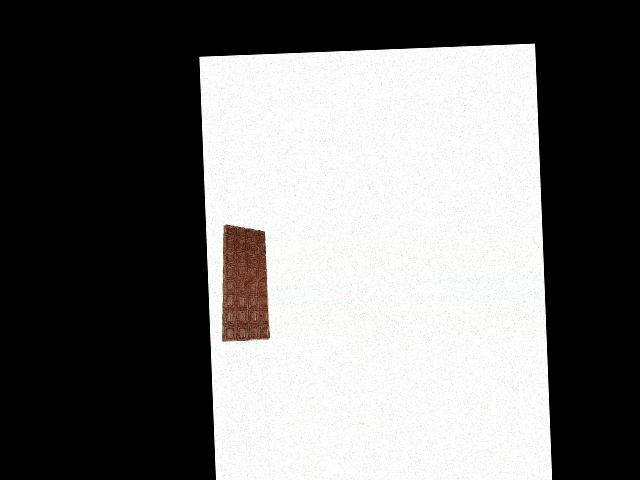chocolate: (219, 221, 269, 342)
